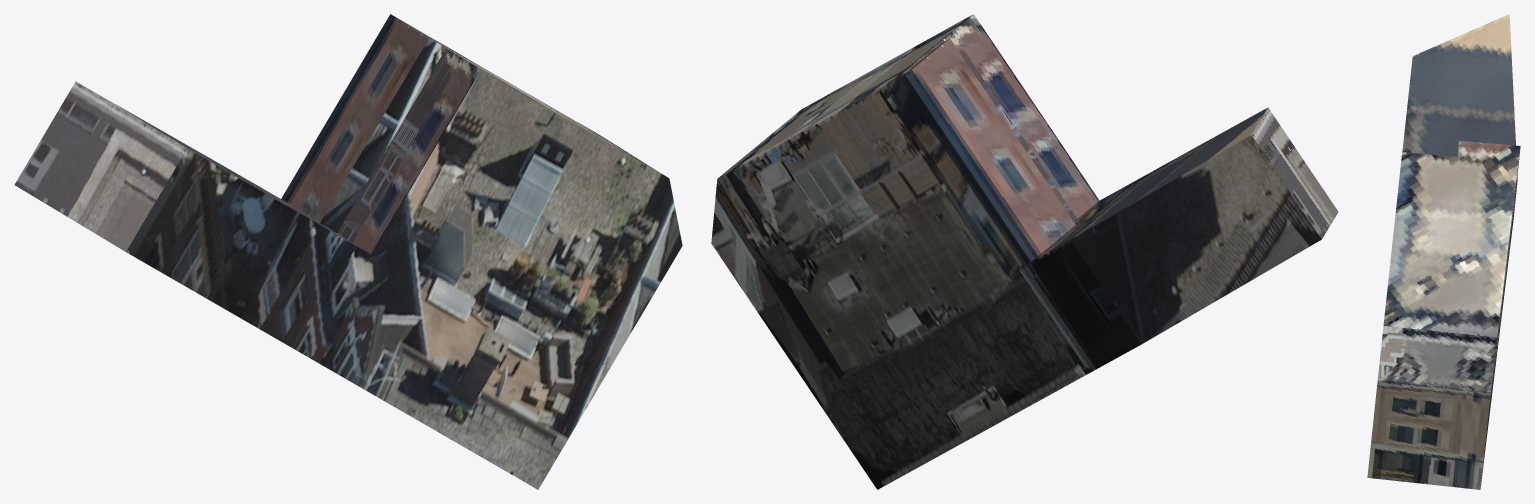
3 views of the same model, side by side, from view 1: azimuth 30°, elevation 25°; view 2: azimuth 150°, elevation 25°; view 3: azimuth 270°, elevation 25° (orthographic). The views are drawn at different scales.
Visible parts, largest first — view 1: BAG_0599100000671728 (×4); view 2: BAG_0599100000671728 (×3); view 3: BAG_0599100000671728 (×2).
Part boxes in pixels (bbox=[...]): BAG_0599100000671728 (×4): bbox=[14, 14, 682, 489]; BAG_0599100000671728 (×3): bbox=[711, 14, 1338, 489]; BAG_0599100000671728 (×2): bbox=[1367, 14, 1520, 489].
Size of the model in its own units: 26.78 by 19.22 by 7.92.
5 materials, 5 textured.
